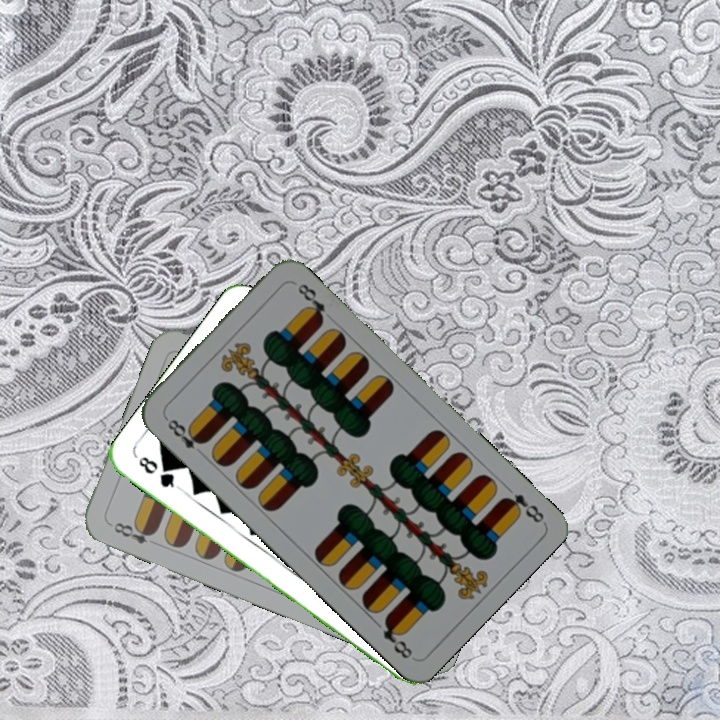E8: (498, 479, 547, 526), (161, 413, 208, 452), (109, 518, 159, 547)
G8: (134, 452, 183, 493)
